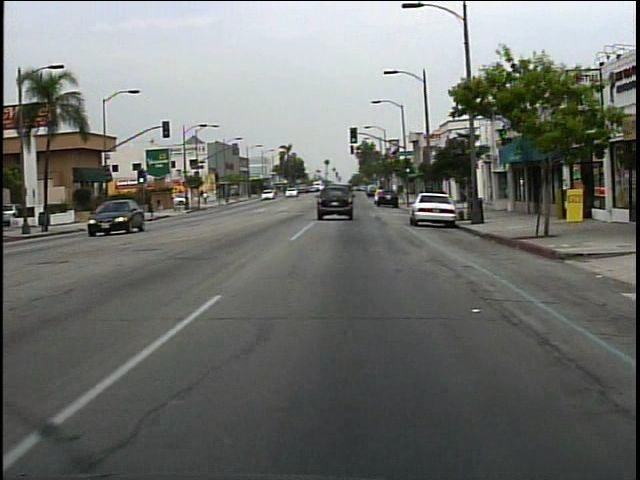person: (203, 189, 211, 207)
